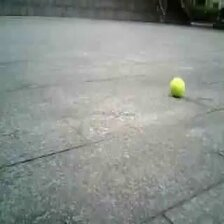tennis: (170, 78, 184, 95)
